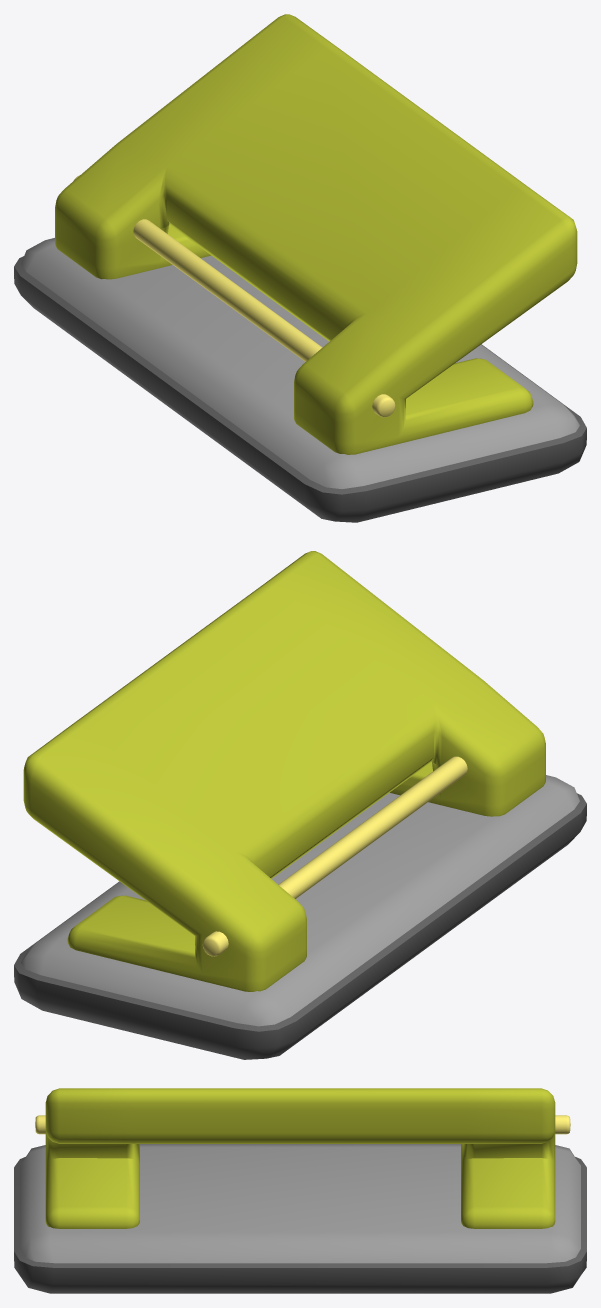
Rendered from Punch02.fbx.
3 renders of one model, top to bottom at view 1: azimuth 30°, elevation 25°; view 2: azimuth 150°, elevation 25°; view 3: azimuth 270°, elevation 25°, orthographic. The views are drawn at different scales.
Parts seen in each view (by area): view 1: Punch02; view 2: Punch02; view 3: Punch02.
Boxes of the visible parts, x1,y1,x2,y2 form: Punch02: (14,14,586,522); Punch02: (14,551,586,1059); Punch02: (14,1088,586,1293).
Bounding box in the file's own units: 0.0838 × 0.1733 × 0.0703.
